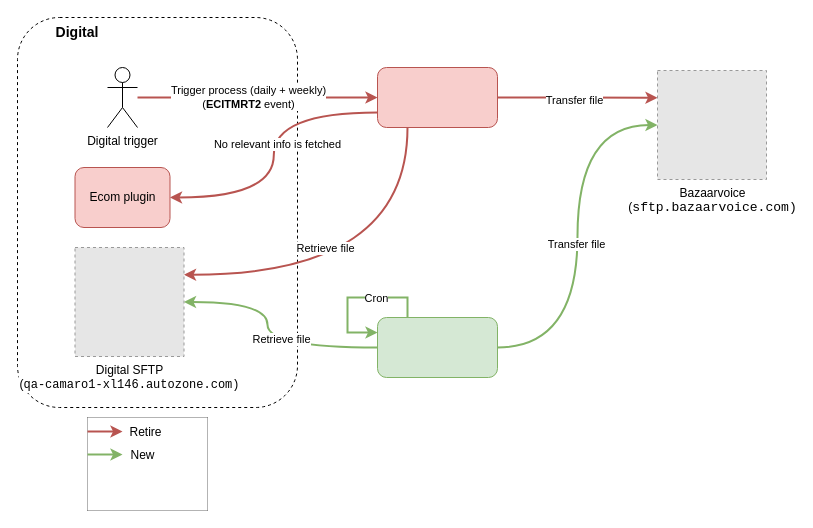
Image size: 813x528. Some labels were removed from this diagram. Grey dashed boxes stand in for pictures. The shapes that lost their labels are listed below. From the top down, each one's centre as x and y in pixels, then its label:
At [437,97]: "ENS".
At [437,347]: "Talend job".
